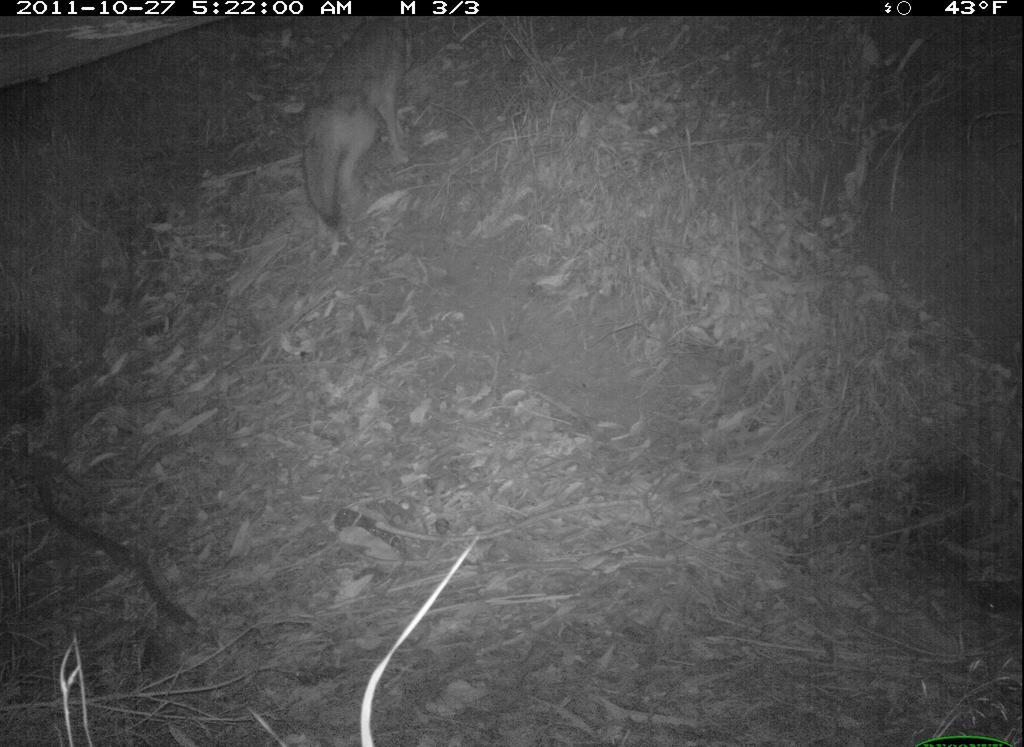coyote: (292, 12, 441, 263)
